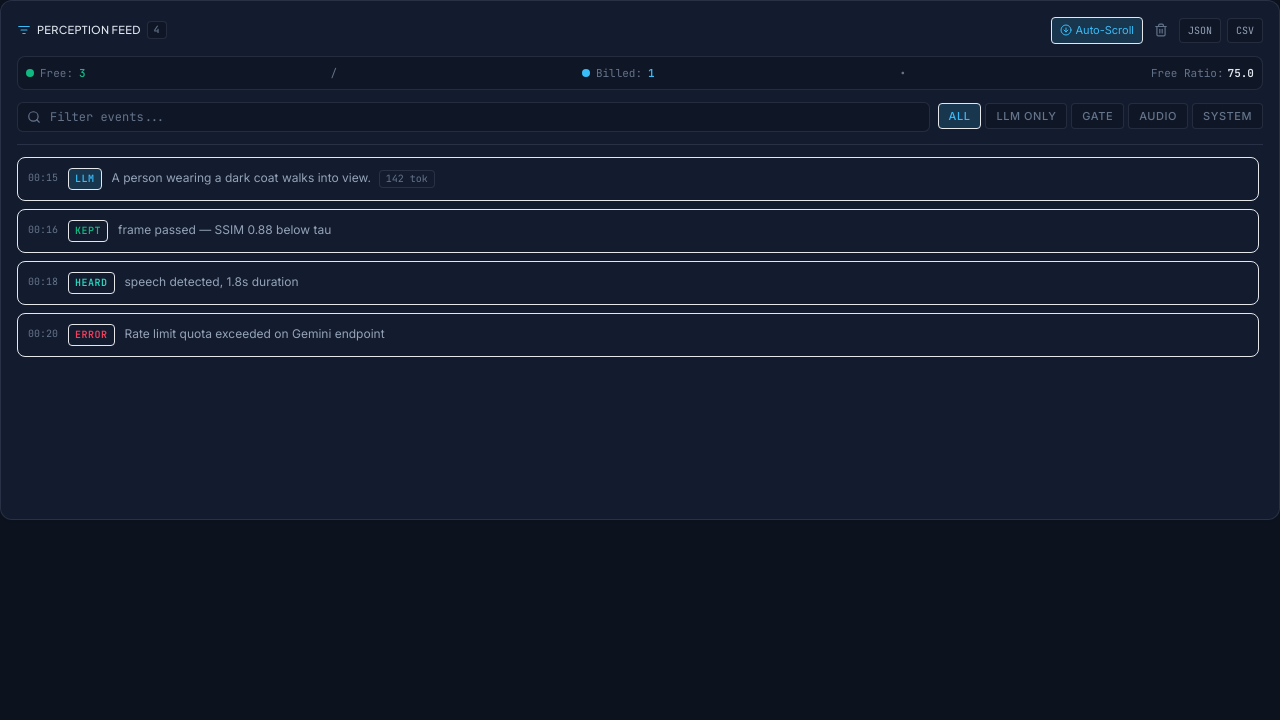
it: UI Components Edge Cases & Stress Resilience › PerceptionFeed Filtering & Search Edge Cases › filters across each category tab accurately
This screenshot has width=1280, height=720.
expect the text "A person wearing a dark coat walks into view." is shown: met, box [112,170,371,185]
Click "system" chip
Click the button "system" at (1228, 116), box [1192,103,1263,129]
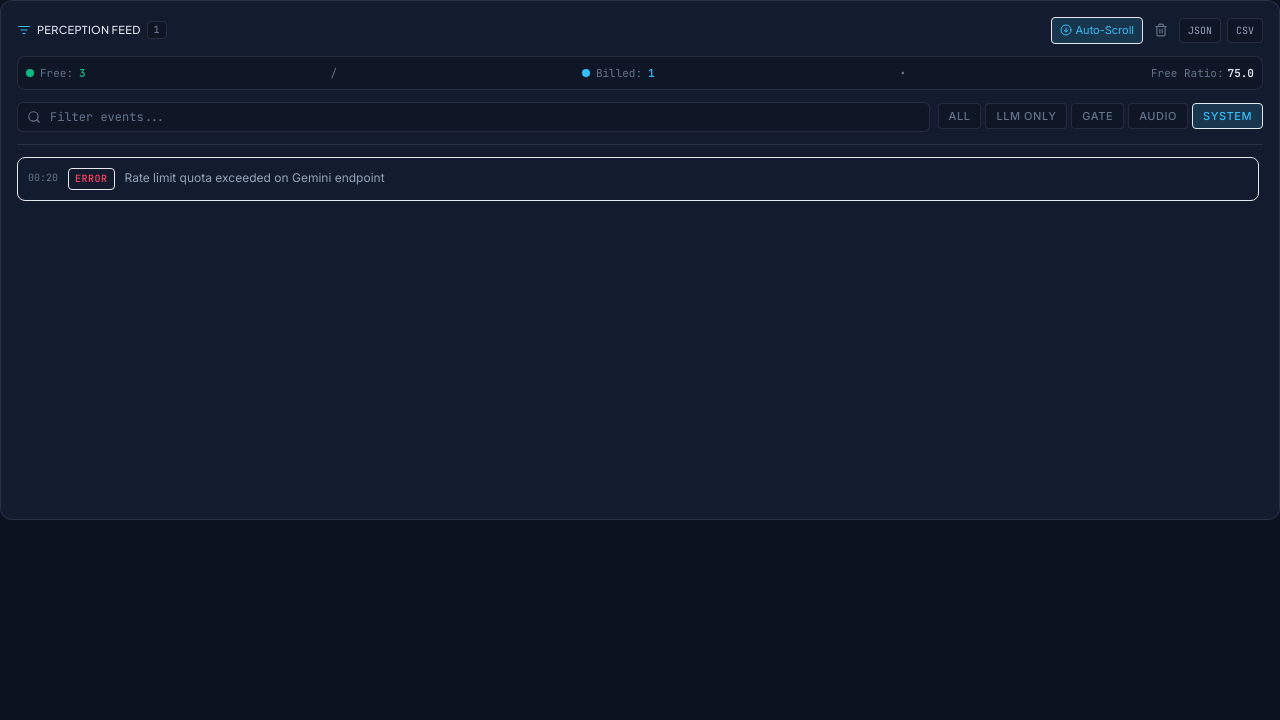
expect the text "Rate limit quota exceeded on Gemini endpoint" is shown: met, box [124,170,385,185]
expect the text "A person wearing a dark coat" is gone: met
Click "audio" chip
Click the button "audio" at (1158, 116), box [1128,103,1188,129]
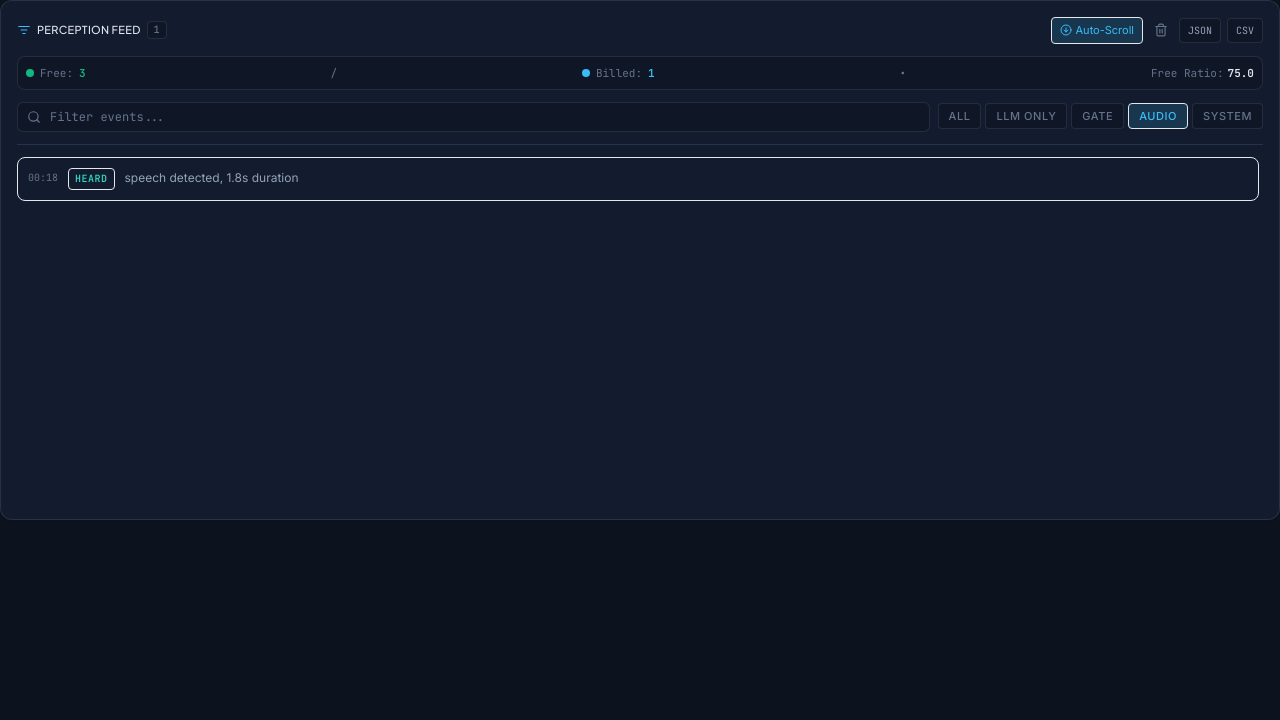
expect the text "speech detected, 1.8s duration" is shown: met, box [124,170,298,185]
expect the text "Rate limit quota exceeded" is gone: met
